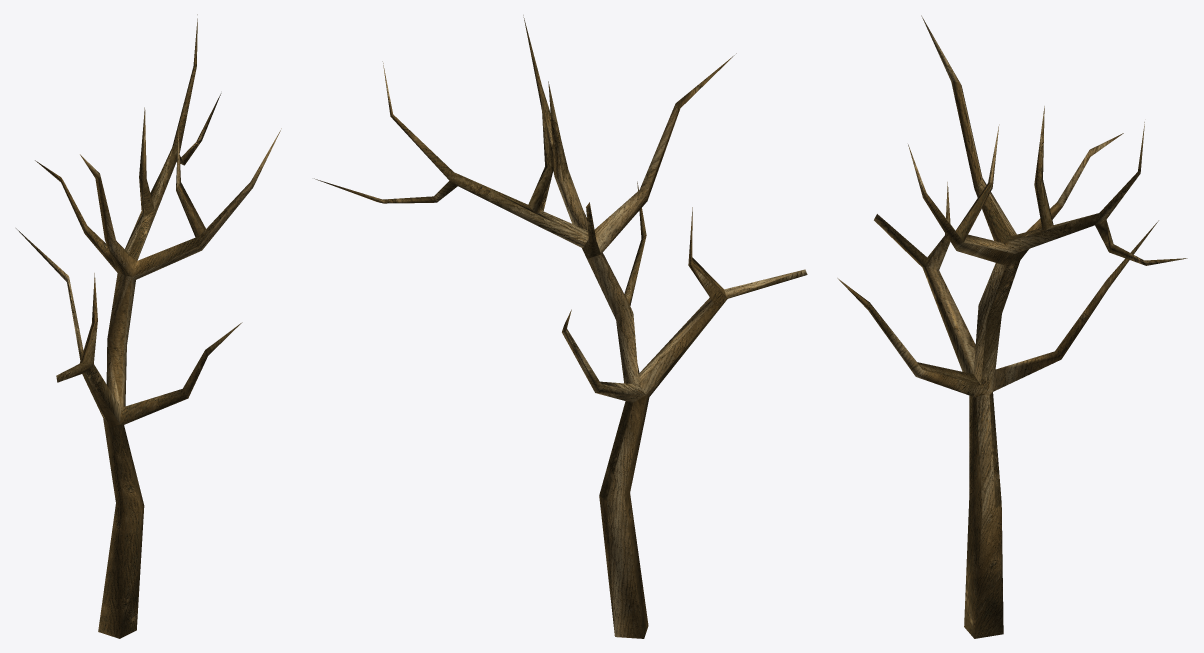
The model's file is tree.glb.
3 renders of one model, left to right at view 1: azimuth 30°, elevation 25°; view 2: azimuth 150°, elevation 25°; view 3: azimuth 270°, elevation 25°, orthographic. The views are drawn at different scales.
Parts seen in each view (by area): view 1: trunk; view 2: trunk; view 3: trunk.
Boxes of the visible parts, bbox=[...] form: trunk: bbox=[16, 14, 281, 638]; trunk: bbox=[314, 15, 807, 638]; trunk: bbox=[837, 15, 1187, 638].
Size of the model in its own units: 3.91 by 6.46 by 3.47.
Materials: 1 (1 with a texture image).
